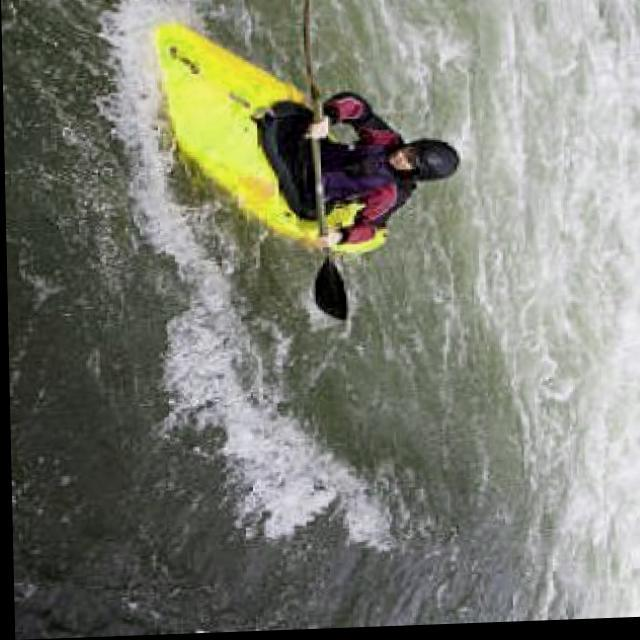kayak: (157, 27, 358, 250), (160, 27, 352, 250), (313, 256, 348, 323)
